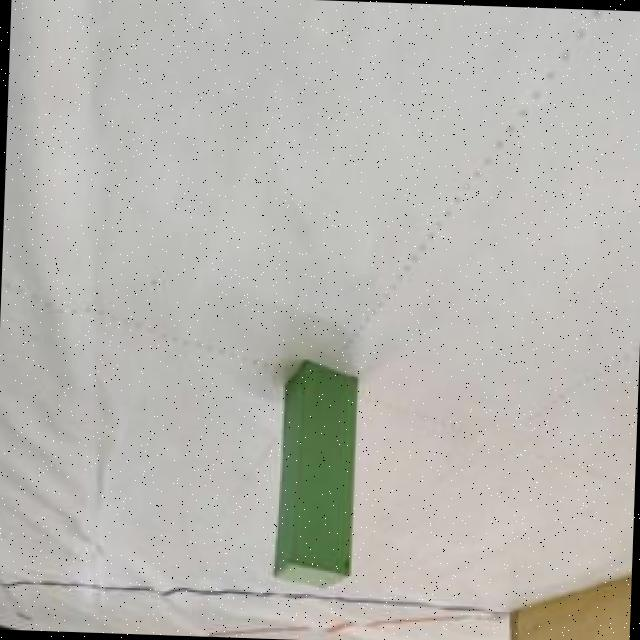greenbox: (270, 360, 362, 593)
